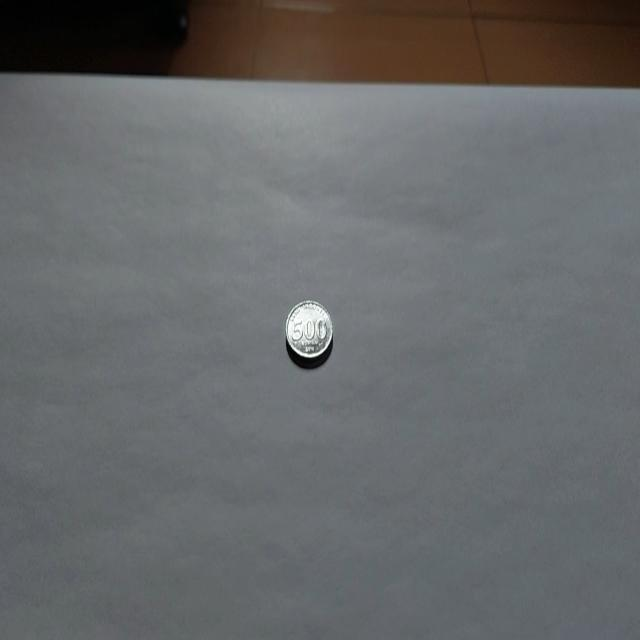lima ratus rupiah: (285, 298, 333, 368)
